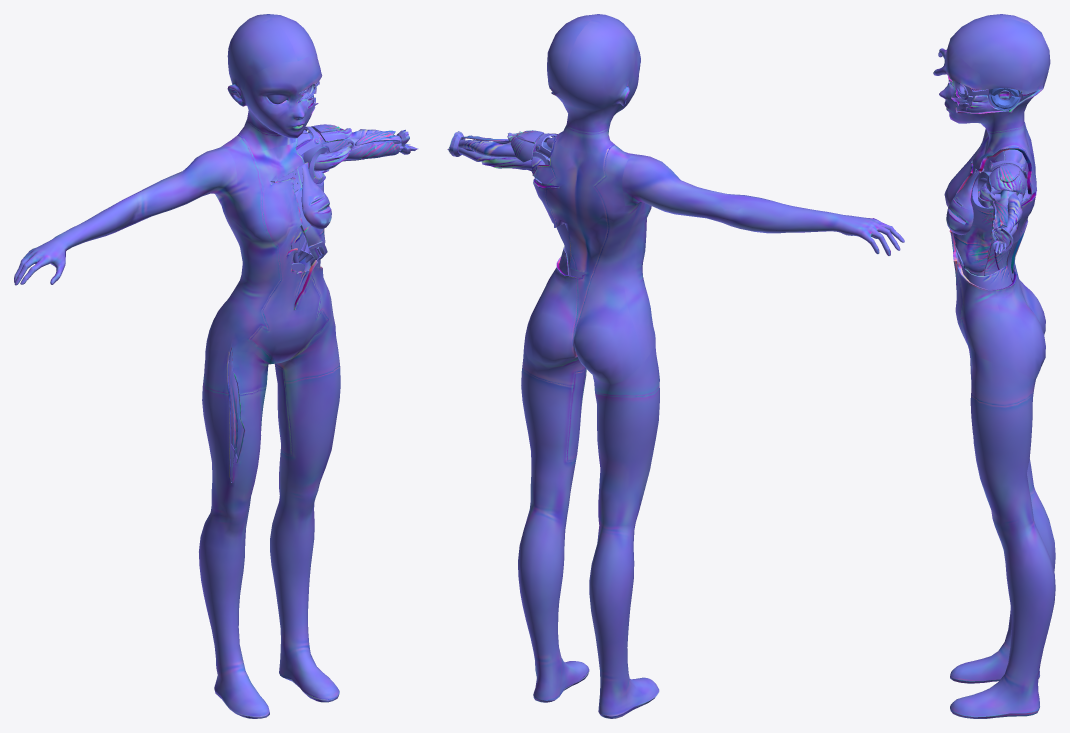
The model's file is SEPHIRA_Binah_Mesh_V2_Nok.fbx.
3 renders of one model, left to right at view 1: azimuth 30°, elevation 25°; view 2: azimuth 150°, elevation 25°; view 3: azimuth 270°, elevation 25°, orthographic.
Visible parts, largest first — view 1: Binah; view 2: Binah; view 3: Binah.
Part boxes in pixels (bbox=[...]): Binah: bbox=[14, 14, 418, 718]; Binah: bbox=[447, 14, 904, 718]; Binah: bbox=[933, 14, 1055, 718].
Size of the model in its own units: 106 by 160 by 26.13.
